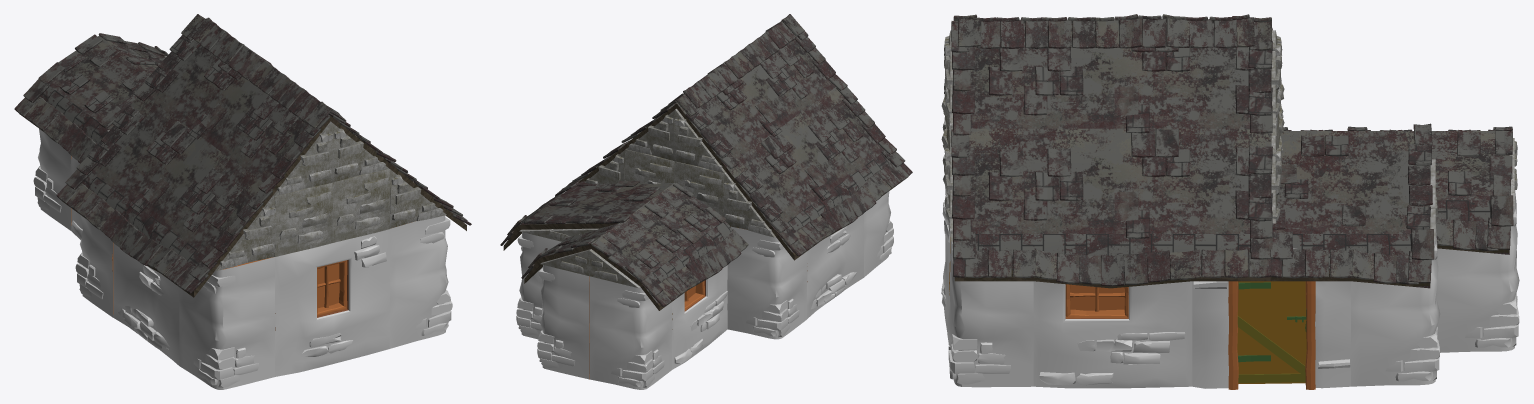
Rendered from Modular_house_1.fbx.
3 views of the same model, side by side, from view 1: azimuth 30°, elevation 25°; view 2: azimuth 150°, elevation 25°; view 3: azimuth 270°, elevation 25° (orthographic). The views are drawn at different scales.
Visible parts, largest first — view 1: roof.010, roof.011, wall.009, wall.010, Roof_long_strip_low.006, wall.008, roof.012, wall.011, Roof_long_strip_low.008, roof.014, wall_roof.006, wall_roof.007 (+23 smaller); view 2: roof.010, roof.011, wall.015, wall.012, Roof_long_strip_low.006, roof.015, wall.014, Roof_long_strip_low.008, roof.012, wall.011, wall.013, roof.014 (+28 smaller); view 3: roof.008, roof.009, roof.015, Roof_long_strip_low.005, wall.007, roof.012, Roof_long_strip_low.009, wall.006, wall.005, wall.008, Windows_doors.026, wall.014 (+11 smaller).
Part boxes in pixels (bbox=[...]): roof.010: bbox=[76, 97, 272, 268]; roof.011: bbox=[134, 35, 330, 194]; wall.009: bbox=[275, 229, 389, 376]; wall.010: bbox=[179, 257, 275, 389]; Roof_long_strip_low.006: bbox=[56, 169, 217, 297]; wall.008: bbox=[389, 215, 448, 348]; roof.012: bbox=[181, 14, 346, 128]; wall.011: bbox=[113, 243, 179, 365]; Roof_long_strip_low.008: bbox=[14, 79, 108, 163]; roof.014: bbox=[38, 34, 129, 103]; wall_roof.006: bbox=[332, 169, 390, 242]; wall_roof.007: bbox=[274, 183, 333, 256]; roof.010: bbox=[726, 87, 896, 235]; roof.011: bbox=[676, 31, 847, 171]; wall.015: bbox=[589, 276, 672, 389]; wall.012: bbox=[727, 226, 807, 339]; Roof_long_strip_low.006: bbox=[775, 150, 912, 260]; roof.015: bbox=[520, 181, 673, 229]; wall.014: bbox=[540, 265, 589, 379]; Roof_long_strip_low.008: bbox=[640, 221, 748, 310]; roof.012: bbox=[660, 14, 804, 116]; wall.011: bbox=[807, 213, 863, 318]; wall.013: bbox=[672, 265, 727, 369]; roof.014: bbox=[591, 223, 668, 286]; roof.008: bbox=[951, 128, 1272, 240]; roof.009: bbox=[951, 23, 1272, 135]; roof.015: bbox=[1272, 123, 1432, 233]; Roof_long_strip_low.005: bbox=[953, 231, 1272, 288]; wall.007: bbox=[1033, 281, 1192, 388]; roof.012: bbox=[953, 14, 1271, 50]; Roof_long_strip_low.009: bbox=[1270, 228, 1434, 288]; wall.006: bbox=[1351, 224, 1440, 386]; wall.005: bbox=[1192, 281, 1350, 388]; wall.008: bbox=[947, 237, 1033, 387]; Windows_doors.026: bbox=[1237, 281, 1306, 383]; wall.014: bbox=[1436, 190, 1519, 352].
Bounding box in the file's own units: 495 × 425 × 729.
